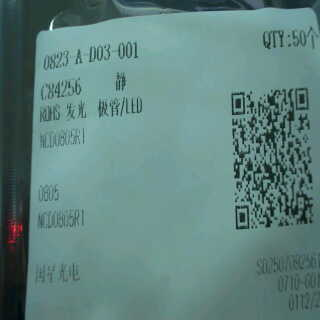LED: (61, 95, 154, 122)
